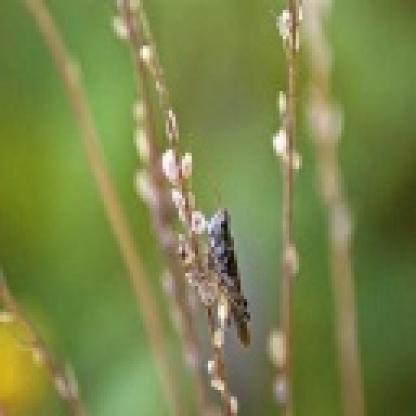grasshopper: (195, 202, 278, 355)
